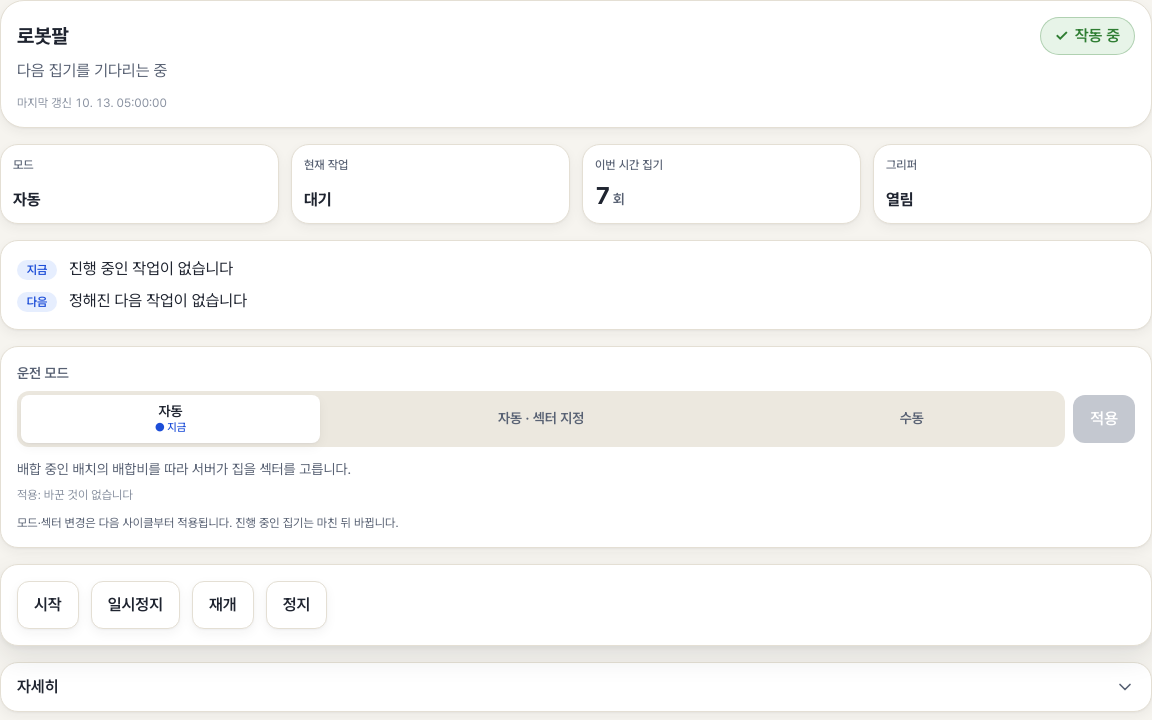
Test: RobotPage › "자세히"는 처음에 닫혀 있고, 열면 진단(관리자)·설정·오류 로그와 안전 안내가 있다
Expected: the field labelled "관절 값" is not shown
Click the button "자세히" at (38, 686), box [1,663,1151,711]
(page scrolled)
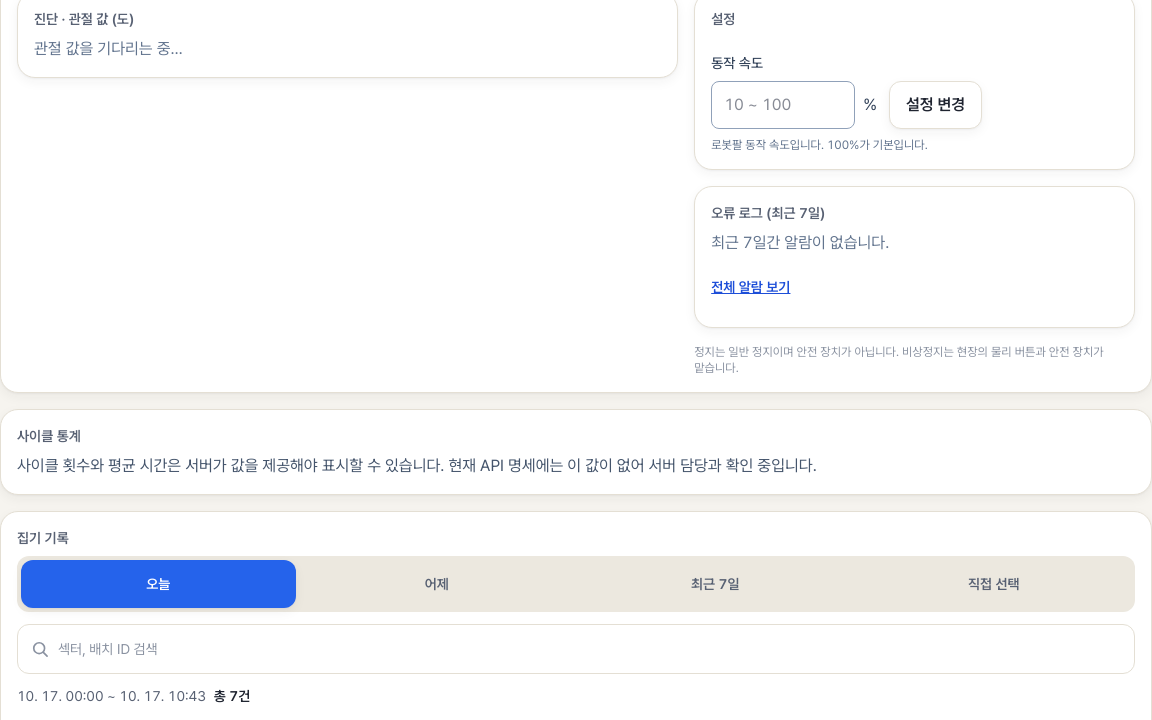
Now the element labelled "관절 값" shows "진단", box [34,11,134,27]
Now the field labelled "동작 속도" is enabled, box [711,81,855,129]
Now the element labelled "오류 로그 (최근 7일)" is shown, box [694,186,1135,328]
